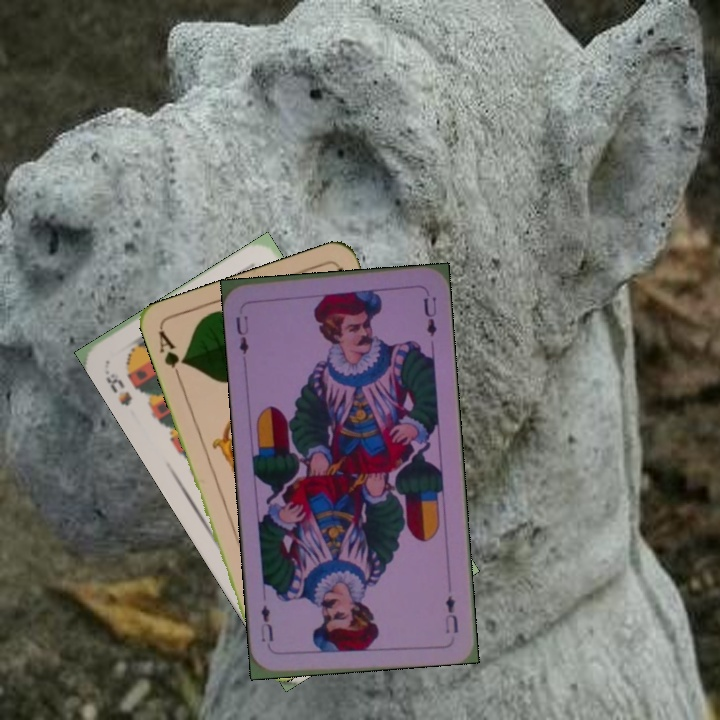EU: (440, 592, 461, 636), (231, 311, 251, 357)
GA: (154, 326, 189, 384)
S8: (100, 359, 135, 409)
